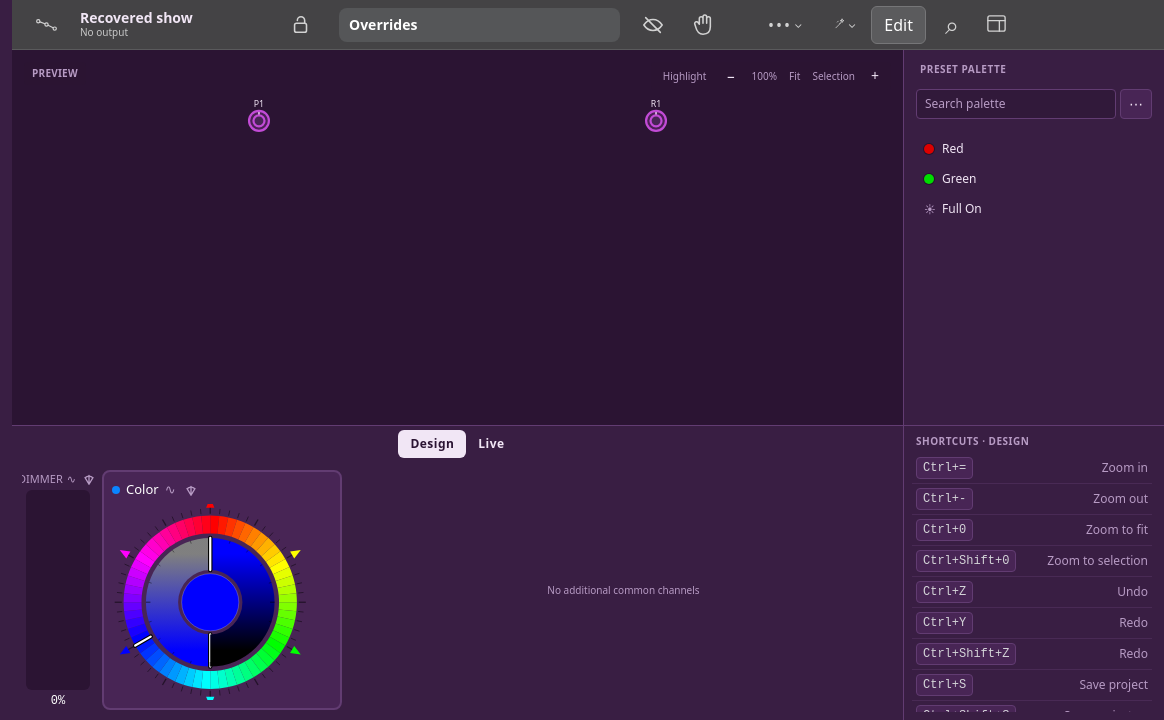
Test: Live buttons: size, colour, drag-anywhere (whole App) › renders at the LightKey size with no drag bar
The width and height of the screenshot is (1164, 720).
Click the button "Live".
click(491, 444)  # box [466,430,517,458]
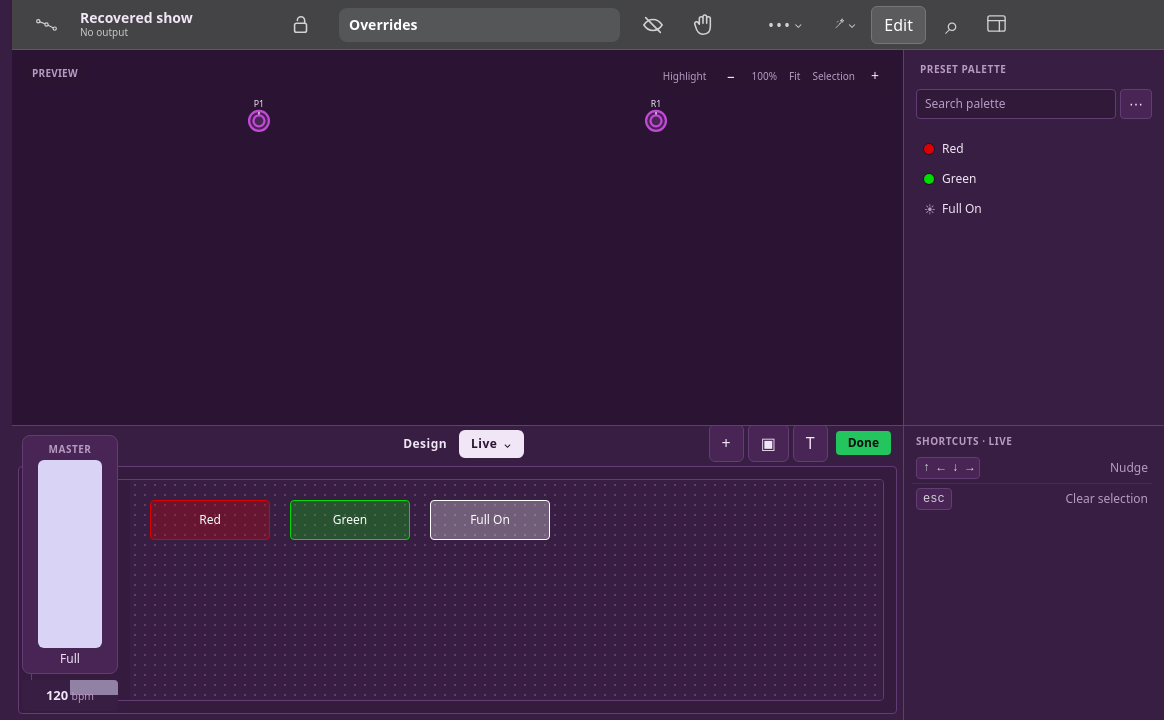
Result: the element named "Live page canvas" is shown at [18,466,897,714]
